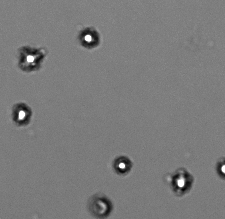Dead Cell: (90, 196, 111, 215)
Living Cell: (170, 169, 192, 195), (19, 48, 42, 72), (79, 27, 100, 49), (12, 103, 30, 124), (114, 156, 132, 175)
